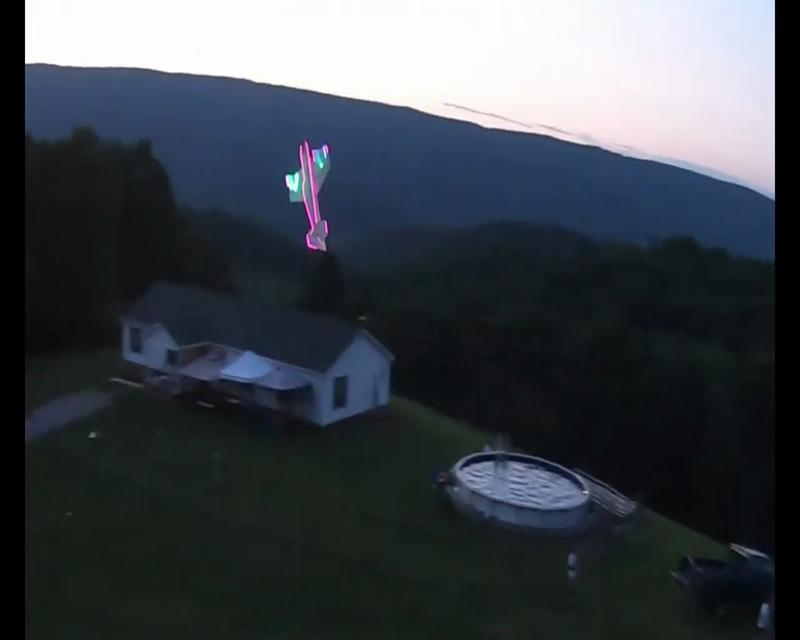UAV: (283, 138, 332, 252)
